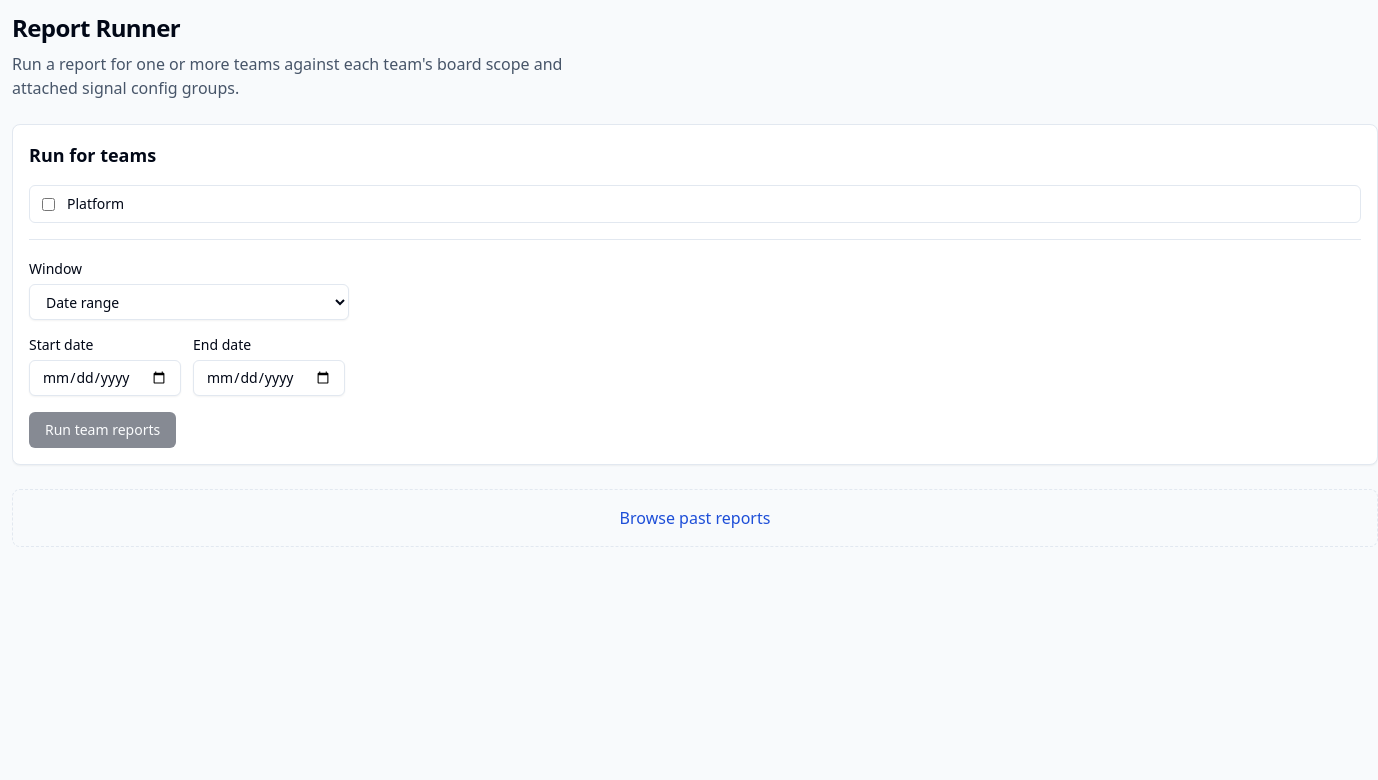
Test case: ReportRunnerPage › exposes a sprint and date-range window picker for a scrum team
expect the date field labelled "Start date" is shown: met, box [29,360,181,396]
// Selecting a scrum team unlocks the sprint option and auto-defaults to sprint mode.
Click the checkbox labelled "Platform" at (48, 204), box [42,198,55,210]
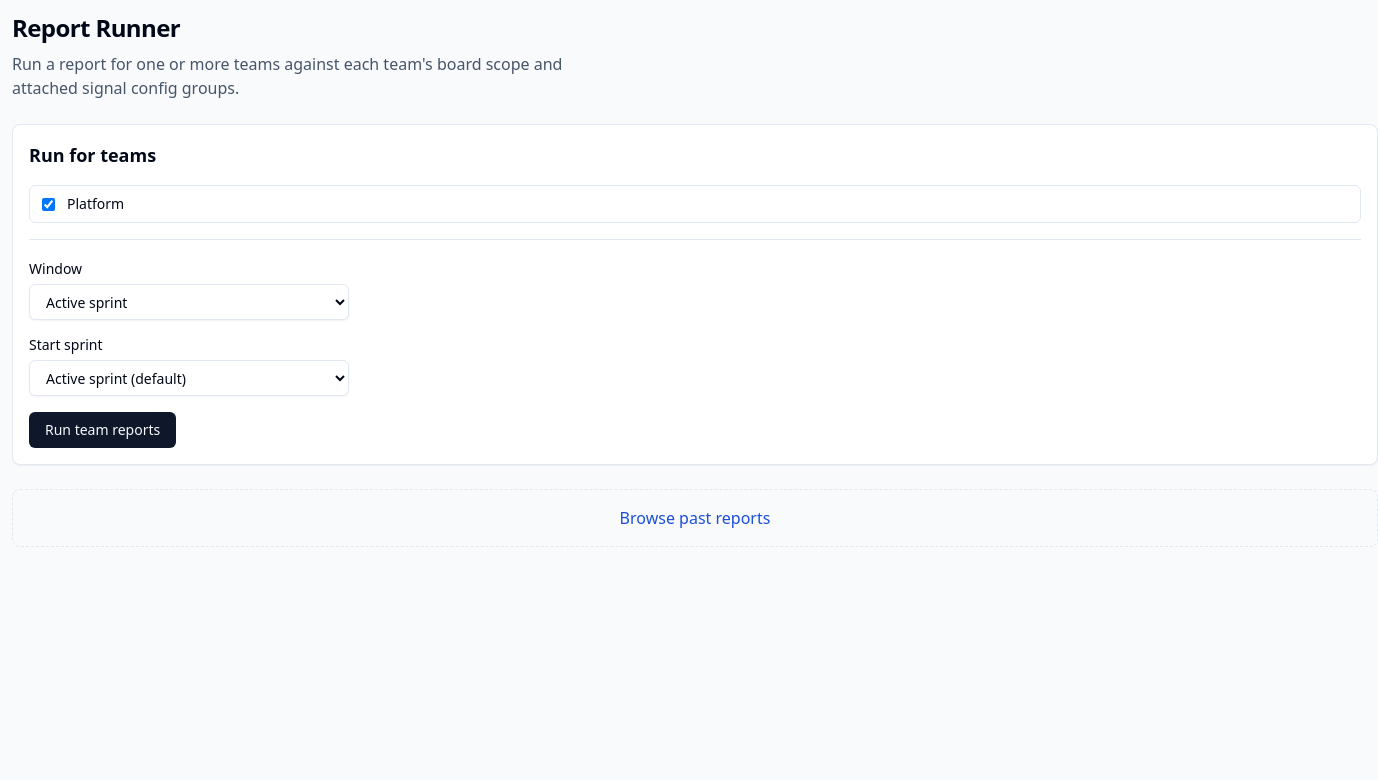
expect the label labelled "Start date" is gone: met
// Switching to date range reveals the date inputs.
Select "Date range" in the dropdown labelled "Window" at (189, 302), box [29,284,349,320]
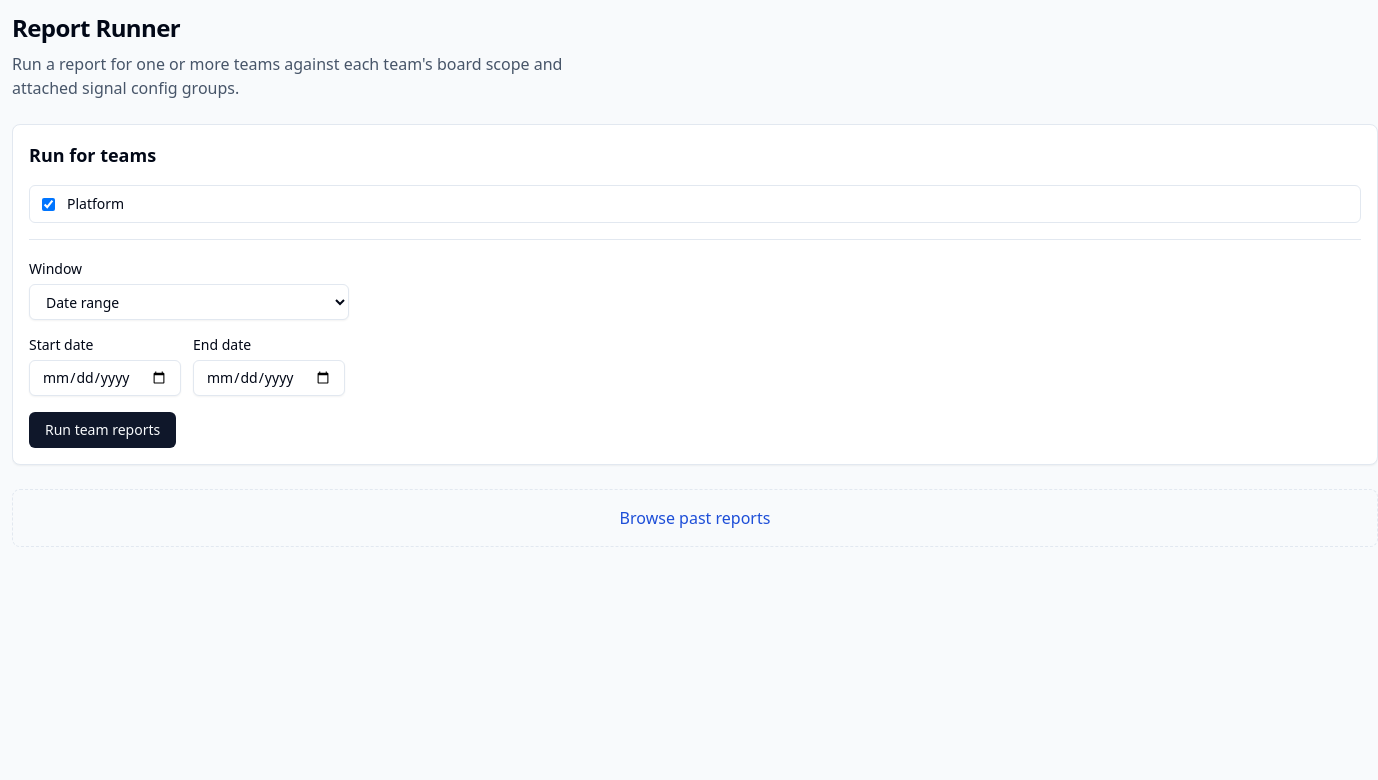
expect the date field labelled "Start date" is shown: met, box [29,360,181,396]
expect the date field labelled "End date" is shown: met, box [193,360,345,396]
